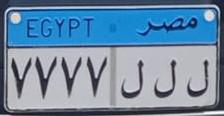7: (57, 48, 88, 102), (32, 44, 59, 99), (84, 50, 111, 100), (13, 53, 31, 101)
ل: (145, 57, 181, 105), (183, 56, 214, 102), (117, 58, 149, 99)
